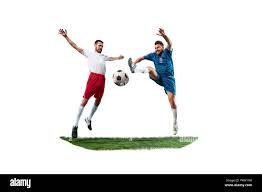football ball: (110, 69, 132, 87)
